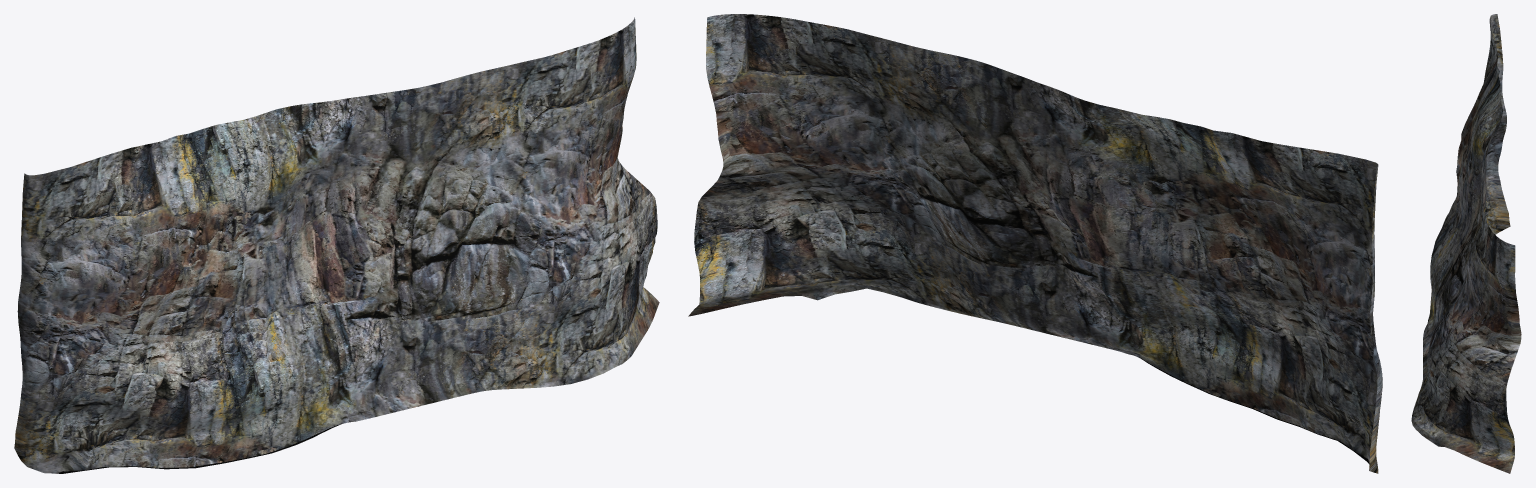
File: Rif.fbx
The picture shows the model from 3 angles, left to right: view 1: azimuth 30°, elevation 25°; view 2: azimuth 150°, elevation 25°; view 3: azimuth 270°, elevation 25°; orthographic projection. The views are drawn at different scales.
Parts seen in each view (by area): view 1: RifStatic; view 2: RifStatic; view 3: RifStatic.
Boxes of the visible parts, x1=… form: RifStatic: x1=14, y1=17, x2=659, y2=473; RifStatic: x1=688, y1=14, x2=1382, y2=473; RifStatic: x1=1411, y1=14, x2=1521, y2=473.
Bounding box in the file's own units: 7800 × 3455 × 1518.
Materials: 1 (1 with a texture image).
